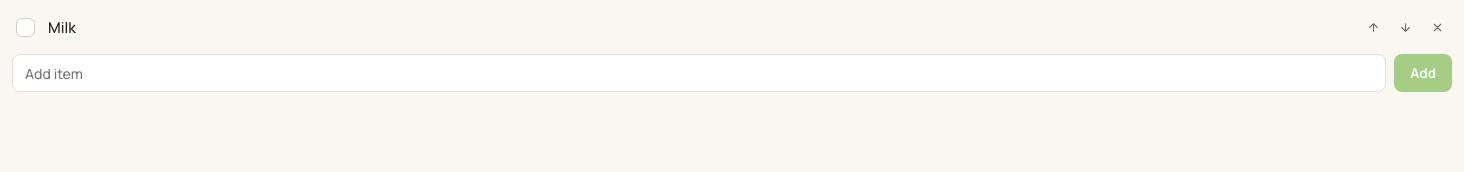
Scenario: Checklist › shows an error message when a mutation fails
This screenshot has width=1464, height=172.
Click the checkbox at (26,27), box [16,18,35,36]
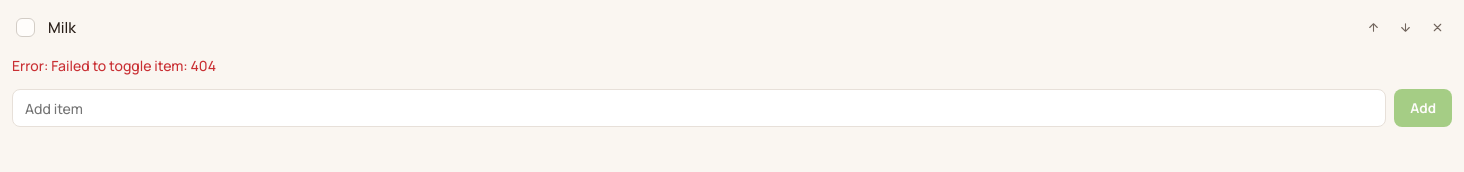
Check: the message shows "Error", box [12,56,51,75]
